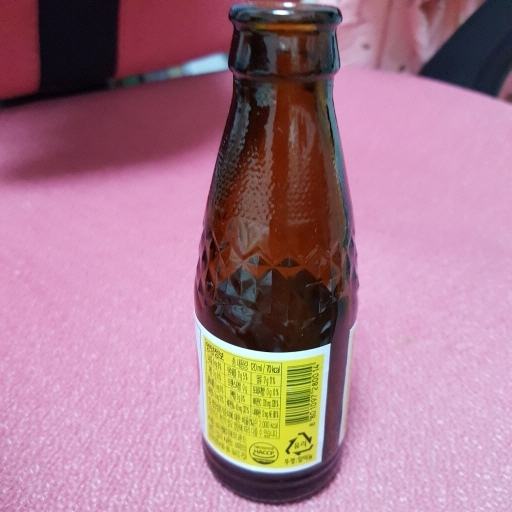Glass_3: (193, 4, 358, 505)
